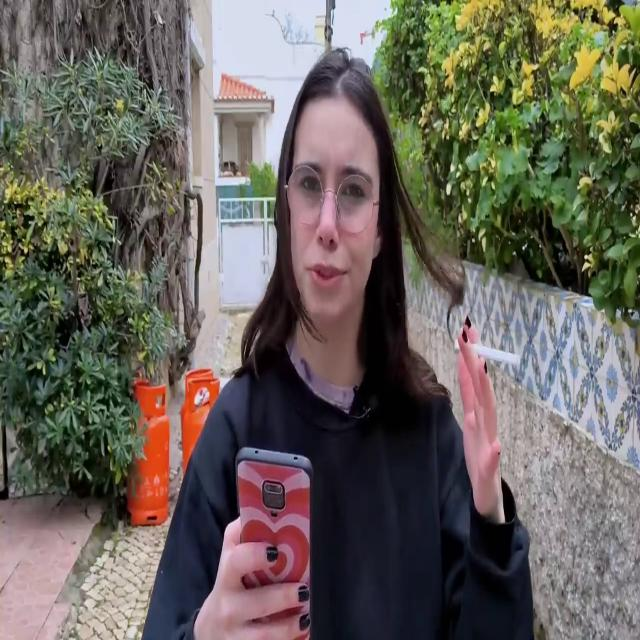Smooking: (461, 324, 529, 379)
